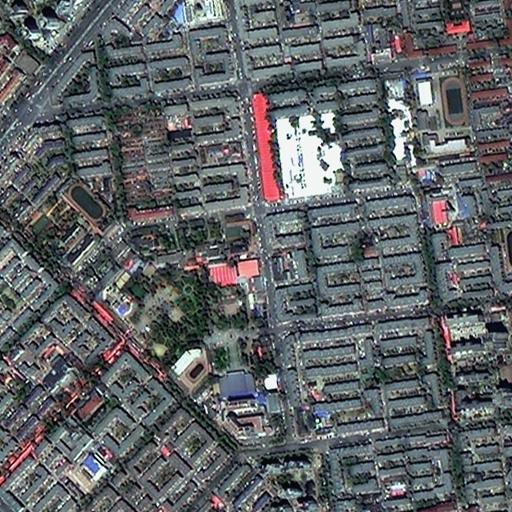school: (21, 178, 112, 267), (416, 71, 471, 158), (167, 346, 208, 393)
